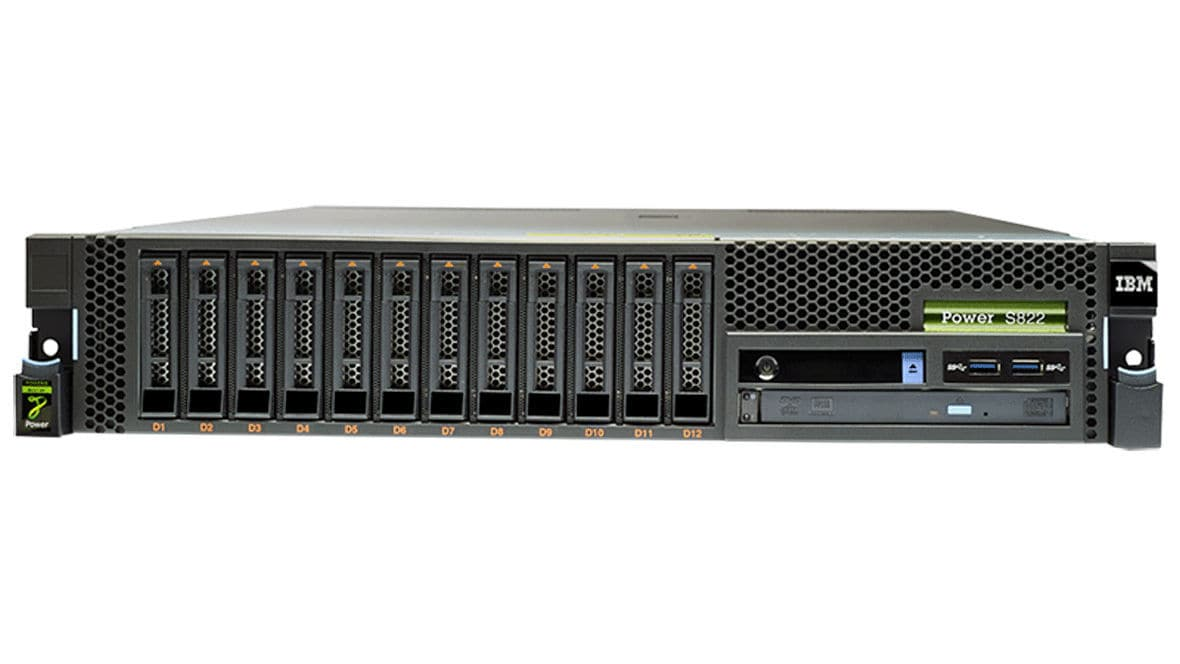ibm-server: (7, 197, 1170, 466)
